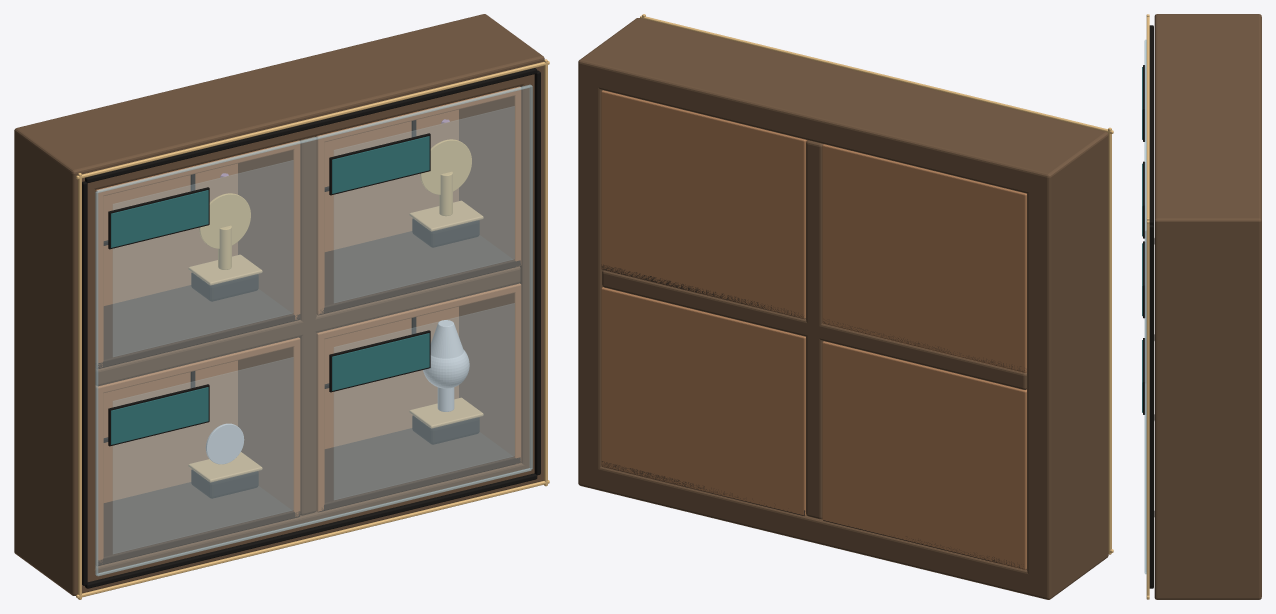
The model's file is wooden-gallery-cabinet-v2.glb.
3 views of the same model, side by side, from view 1: azimuth 30°, elevation 25°; view 2: azimuth 150°, elevation 25°; view 3: azimuth 270°, elevation 25° (orthographic). The views are drawn at different scales.
Parts seen in each view (by area): view 1: front-glass-outer-pane, outer-frame-top, outer-frame-left, slot-2.front-glass-pane, slot-0.front-glass-pane, slot-3.front-glass-pane, slot-1.front-glass-pane, outer-frame-bottom, slot-0.floor-panel, slot-2.floor-panel, slot-2.back-panel, slot-1.floor-panel (+48 smaller); view 2: outer-frame-top, slot-2.back-panel, slot-0.back-panel, slot-1.back-panel, outer-frame-left, slot-3.back-panel, outer-frame-bottom, outer-frame-right, divider-horizontal-core, divider-vertical-core, brass-outer-top, brass-outer-left (+13 smaller); view 3: outer-frame-right, outer-frame-top, outer-frame-bottom, lacquer-outer-right-rib, brass-outer-right, front-glass-outer-right-edge, lacquer-outer-top-rib, outer-frame-left, brass-outer-top, front-glass-outer-top-edge, front-glass-outer-left-edge, front-glass-outer-bottom-edge.
Part boxes in pixels (x1,y1,x2,y2): front-glass-outer-pane: (97, 86, 530, 573); outer-frame-top: (14, 14, 543, 193); outer-frame-left: (14, 123, 95, 595); slot-2.front-glass-pane: (113, 357, 293, 553); slot-0.front-glass-pane: (113, 160, 293, 356); slot-3.front-glass-pane: (334, 303, 514, 499); slot-1.front-glass-pane: (334, 106, 514, 302); outer-frame-bottom: (14, 461, 543, 595); slot-0.floor-panel: (97, 285, 300, 368); slot-2.floor-panel: (98, 482, 300, 565); slot-2.back-panel: (103, 360, 237, 502); slot-1.floor-panel: (317, 231, 520, 315); outer-frame-top: (579, 18, 1108, 196); slot-2.back-panel: (823, 342, 1026, 569); slot-0.back-panel: (822, 145, 1026, 372); slot-1.back-panel: (602, 92, 807, 318); outer-frame-left: (1027, 127, 1108, 599); slot-3.back-panel: (601, 287, 804, 514); outer-frame-bottom: (578, 464, 1108, 599); outer-frame-right: (578, 18, 656, 488); divider-horizontal-core: (602, 270, 1026, 389); divider-vertical-core: (806, 140, 823, 519); brass-outer-top: (640, 15, 1113, 133); brass-outer-left: (1108, 127, 1111, 554); outer-frame-right: (1154, 210, 1261, 599); outer-frame-top: (1154, 14, 1261, 239); outer-frame-bottom: (1154, 580, 1261, 598); lacquer-outer-right-rib: (1149, 225, 1153, 586); brass-outer-right: (1146, 217, 1149, 599); front-glass-outer-right-edge: (1144, 230, 1146, 573); lacquer-outer-top-rib: (1149, 25, 1153, 225); outer-frame-left: (1156, 14, 1261, 24); brass-outer-top: (1146, 17, 1149, 223); front-glass-outer-top-edge: (1144, 39, 1146, 230); front-glass-outer-left-edge: (1145, 40, 1146, 382); front-glass-outer-bottom-edge: (1145, 384, 1146, 574).
Size of the model in its own units: 5.55 by 4.78 by 1.36.
